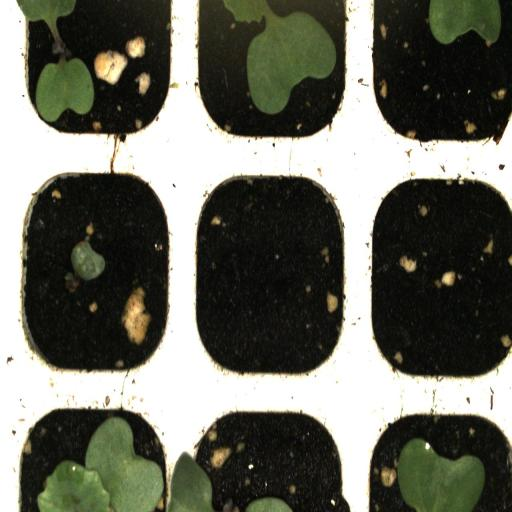noseedling: (182, 159, 356, 391), (355, 159, 512, 390)
seedling: (8, 0, 178, 156)
weak: (10, 157, 180, 379)
